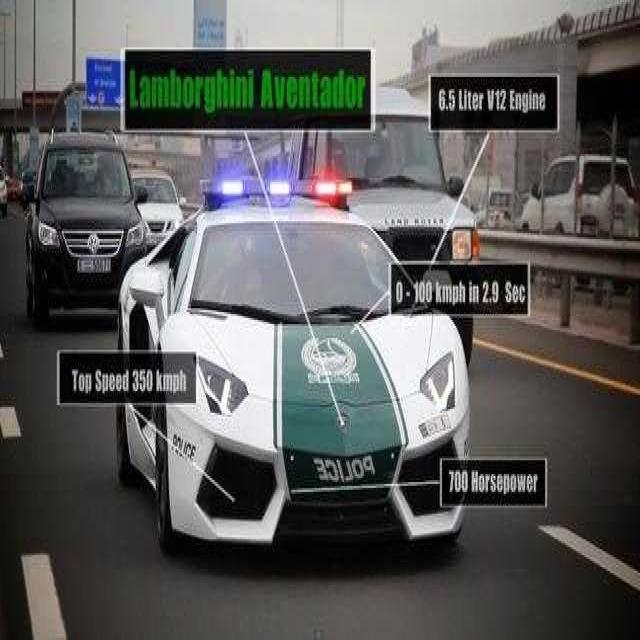firetruck: (117, 200, 479, 556)
